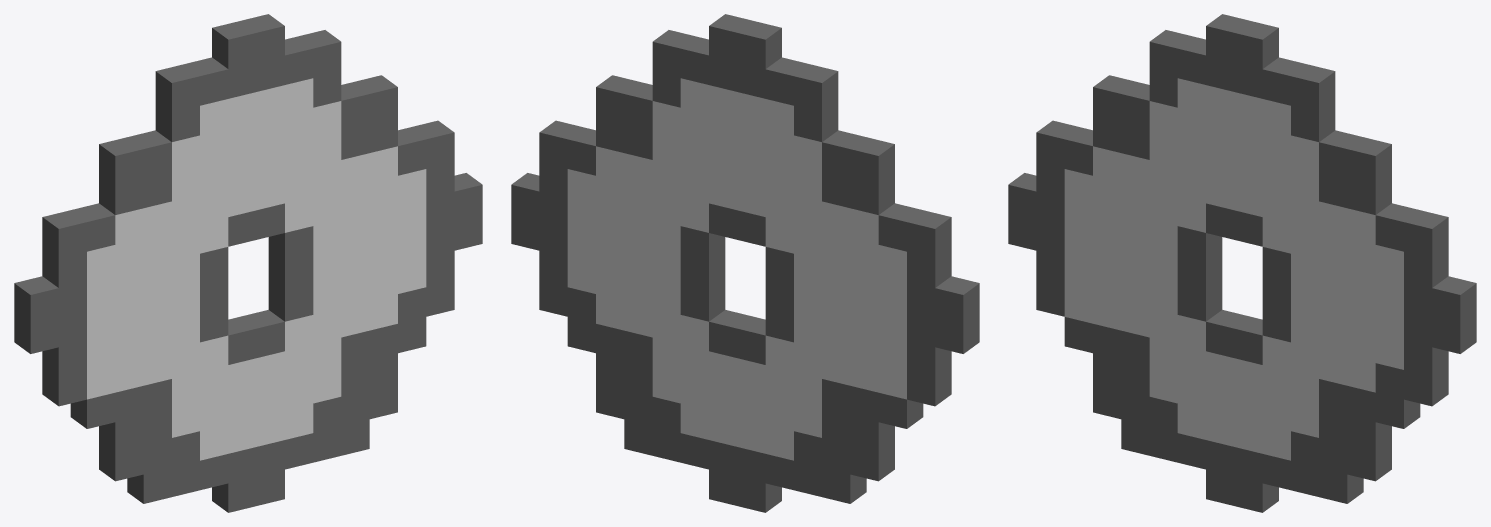
Rendered from roda dentada.obj.
The picture shows the model from 3 angles, left to right: view 1: azimuth 30°, elevation 25°; view 2: azimuth 150°, elevation 25°; view 3: azimuth 330°, elevation 25°; orthographic projection.
Bounding box in the file's own units: 1.6 × 1.6 × 0.1.
Materials: 1 (1 with a texture image).
